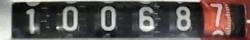digits: (138, 6, 161, 31), (62, 6, 78, 30), (175, 6, 191, 30), (100, 6, 116, 30), (209, 3, 222, 26), (25, 8, 36, 34)
